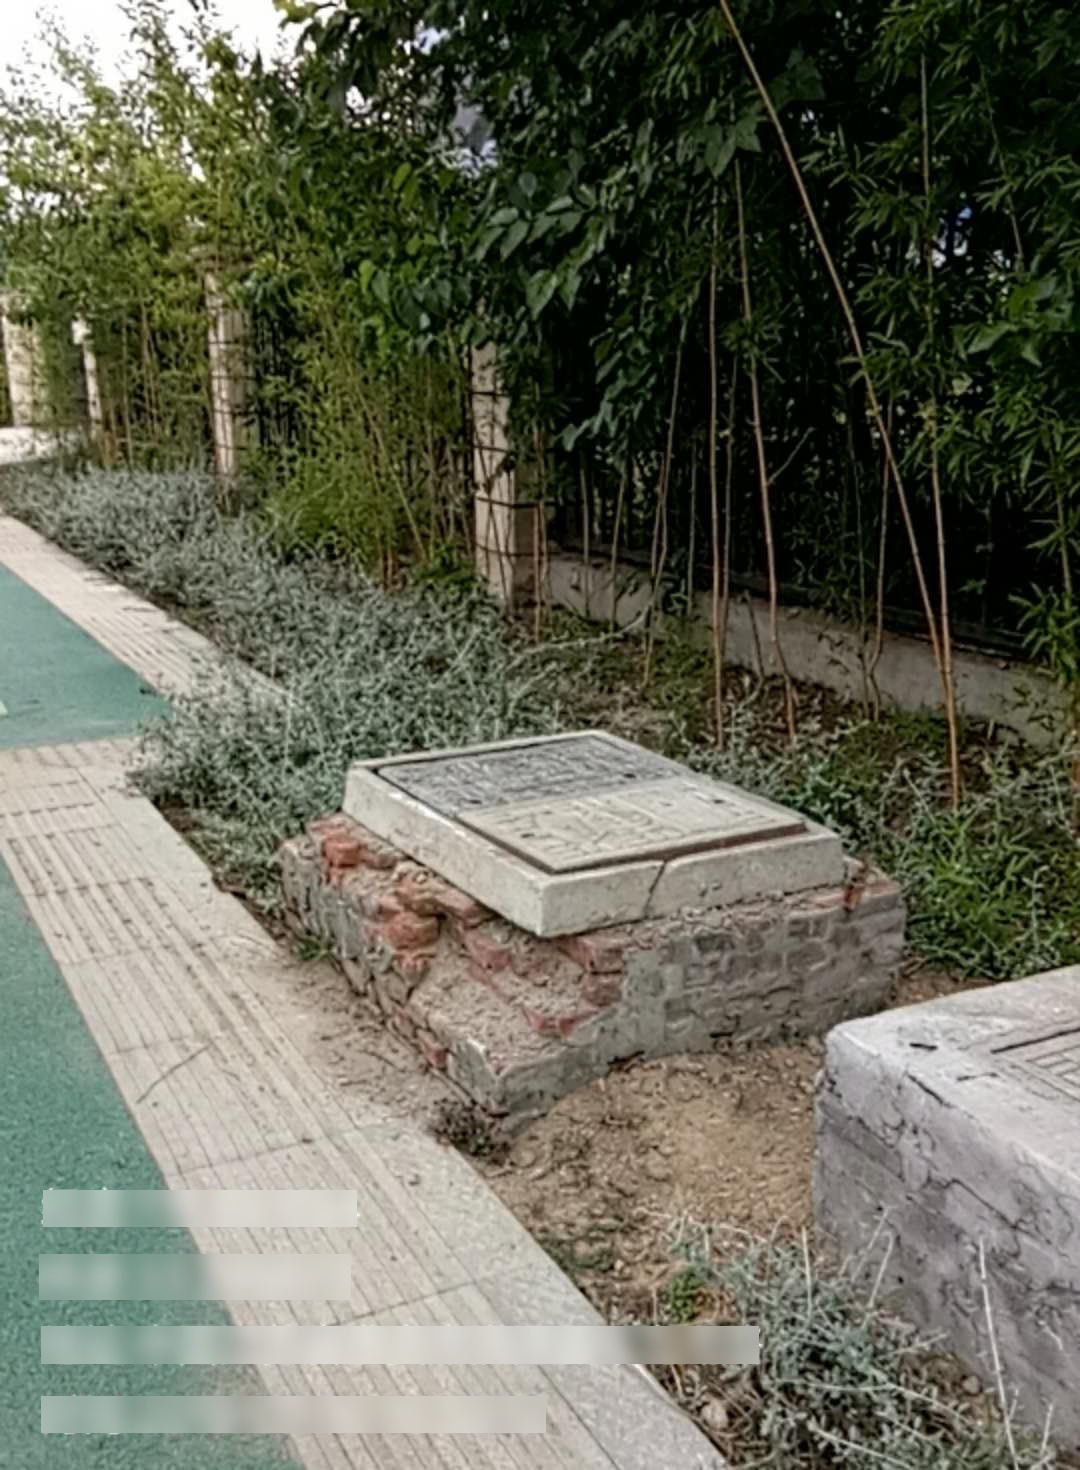good: (353, 728, 837, 885)
